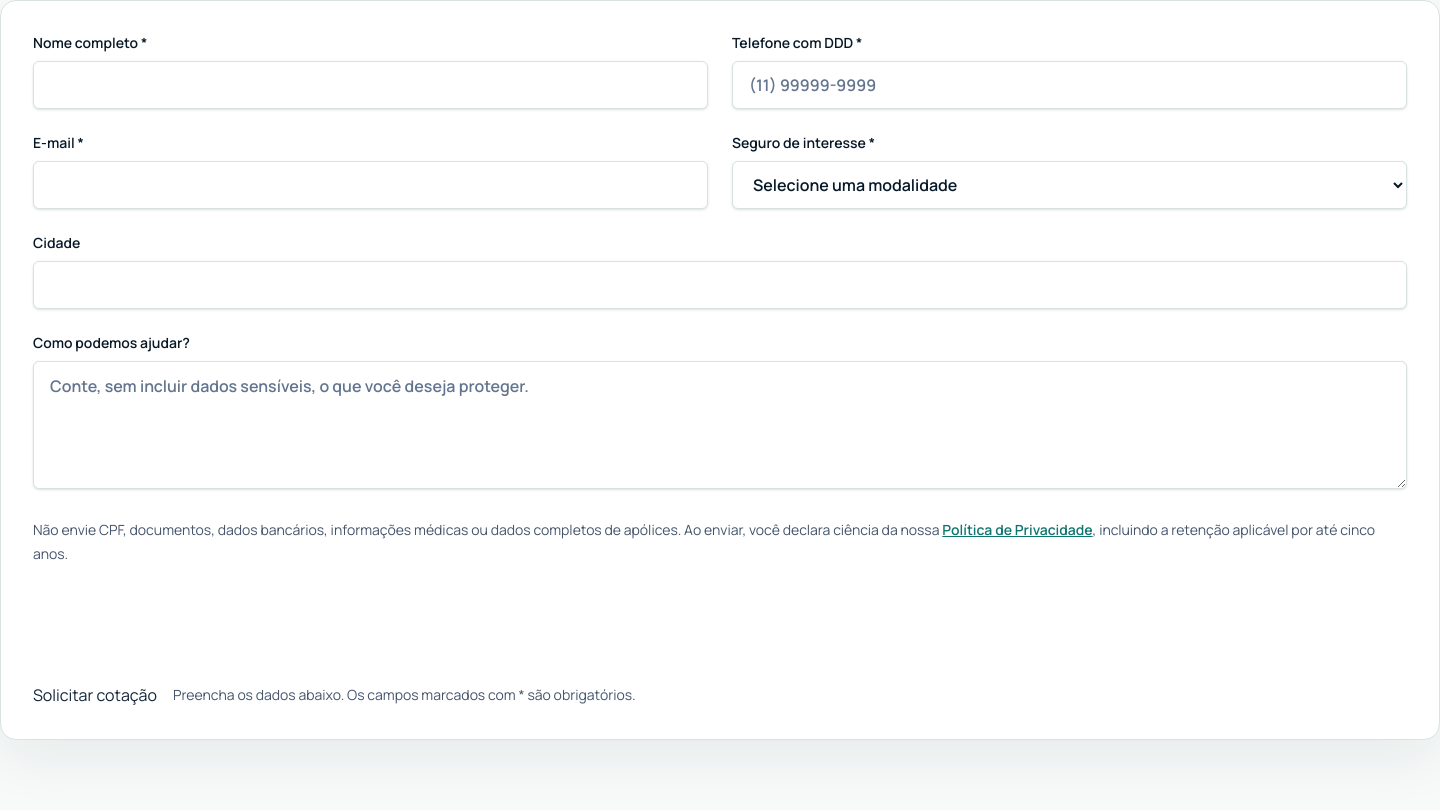
Test: QuoteForm › informa o limite e exige uma nova verificação
Type "Pessoa Exemplo" into the field labelled "Nome completo *" at point(370, 85), box [33, 61, 708, 109]
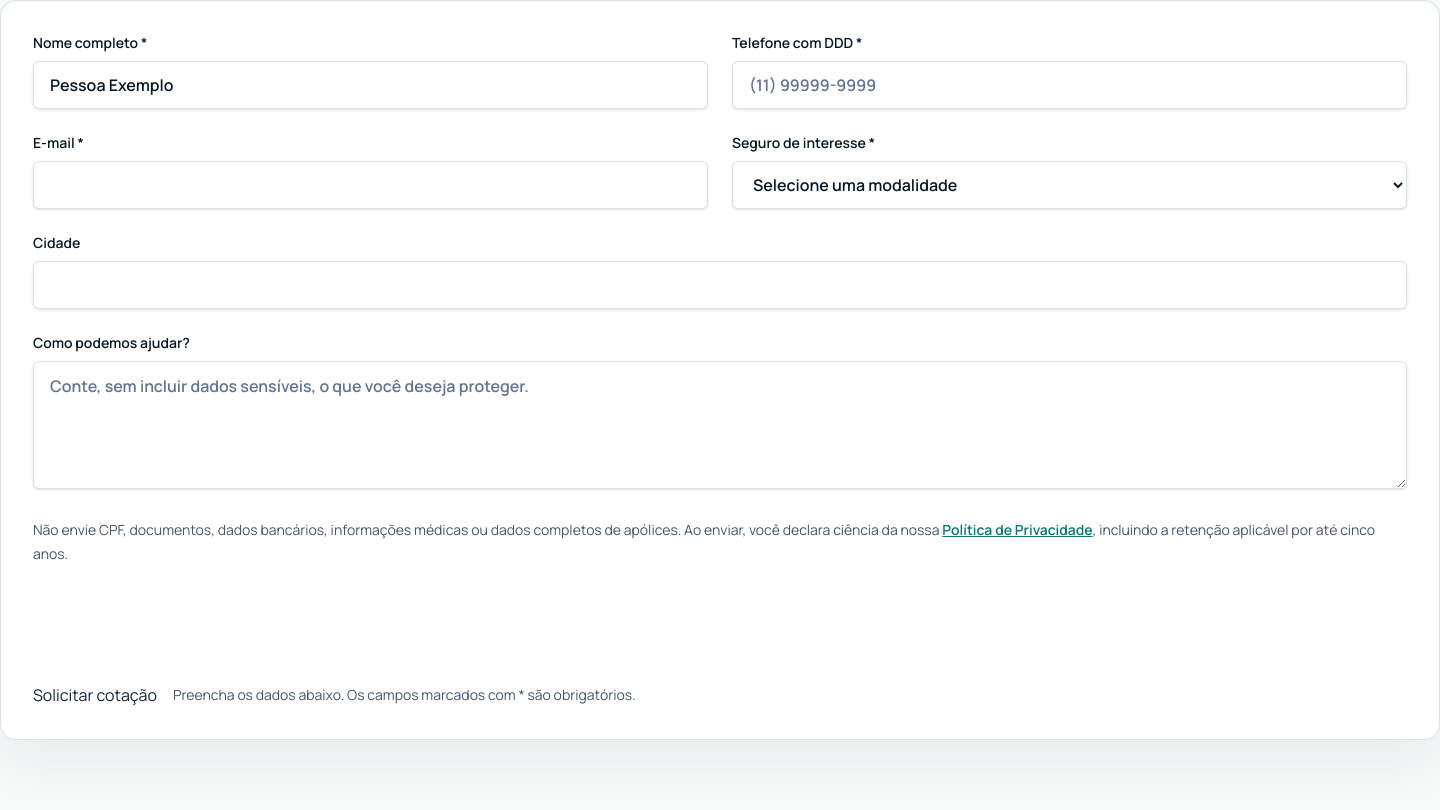
Type "(11) 99999-0000" into the field labelled "Telefone com DDD *" at point(1070, 85), box [732, 61, 1407, 109]
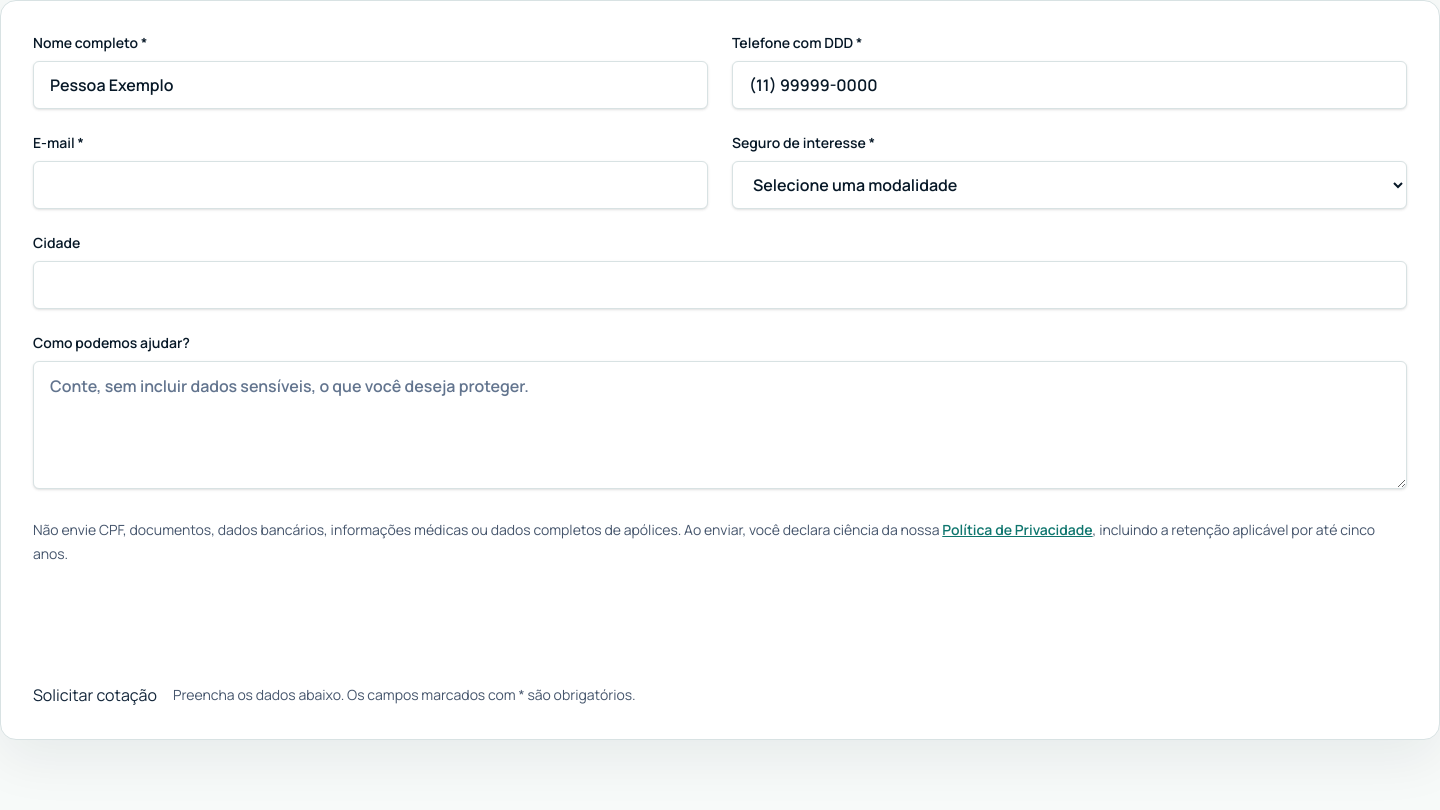
Type "pessoa@example.invalid" into the field labelled "E-mail *" at point(370, 185), box [33, 161, 708, 209]
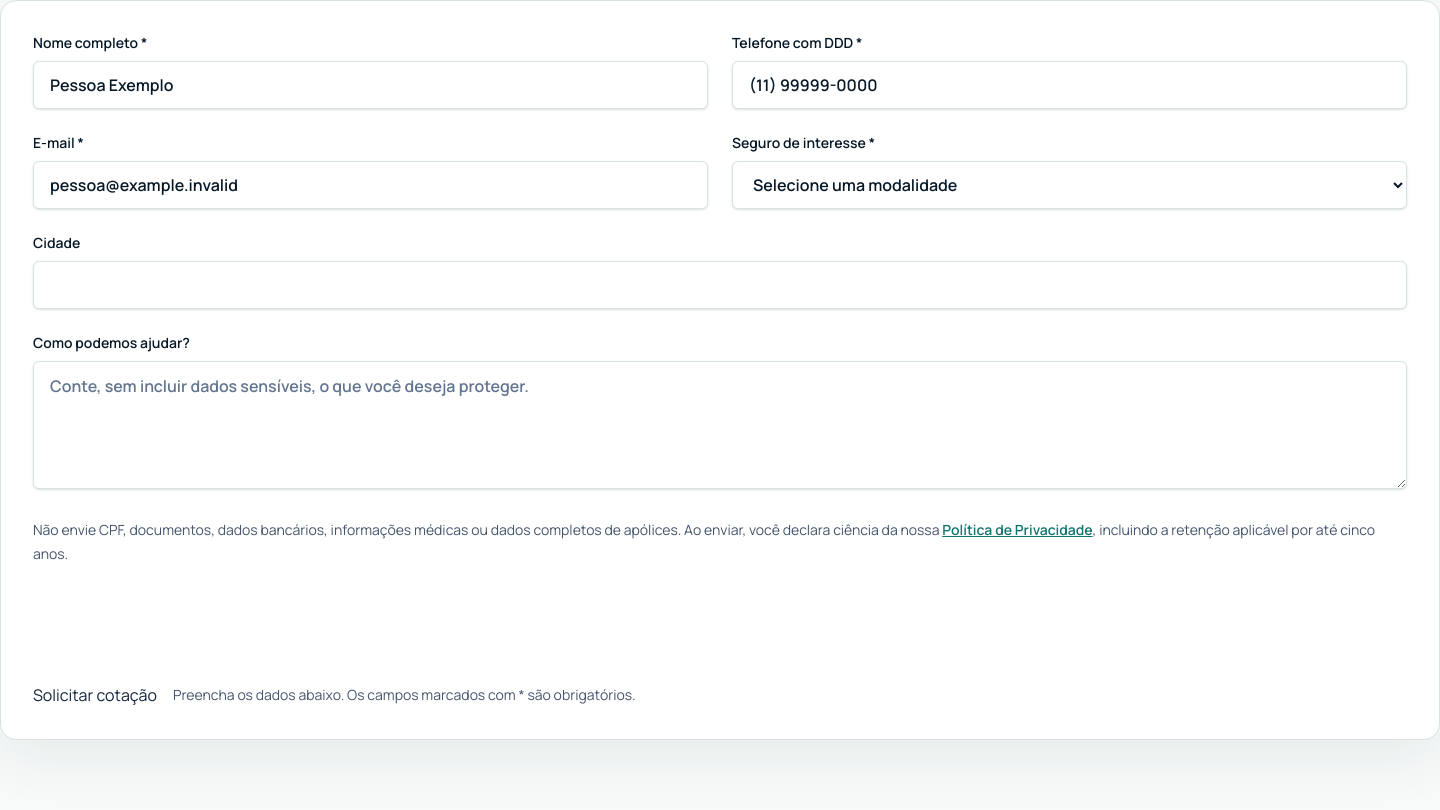
Select "Seguro Auto" in the dropdown labelled "Seguro de interesse *" at point(1070, 185), box [732, 161, 1407, 209]
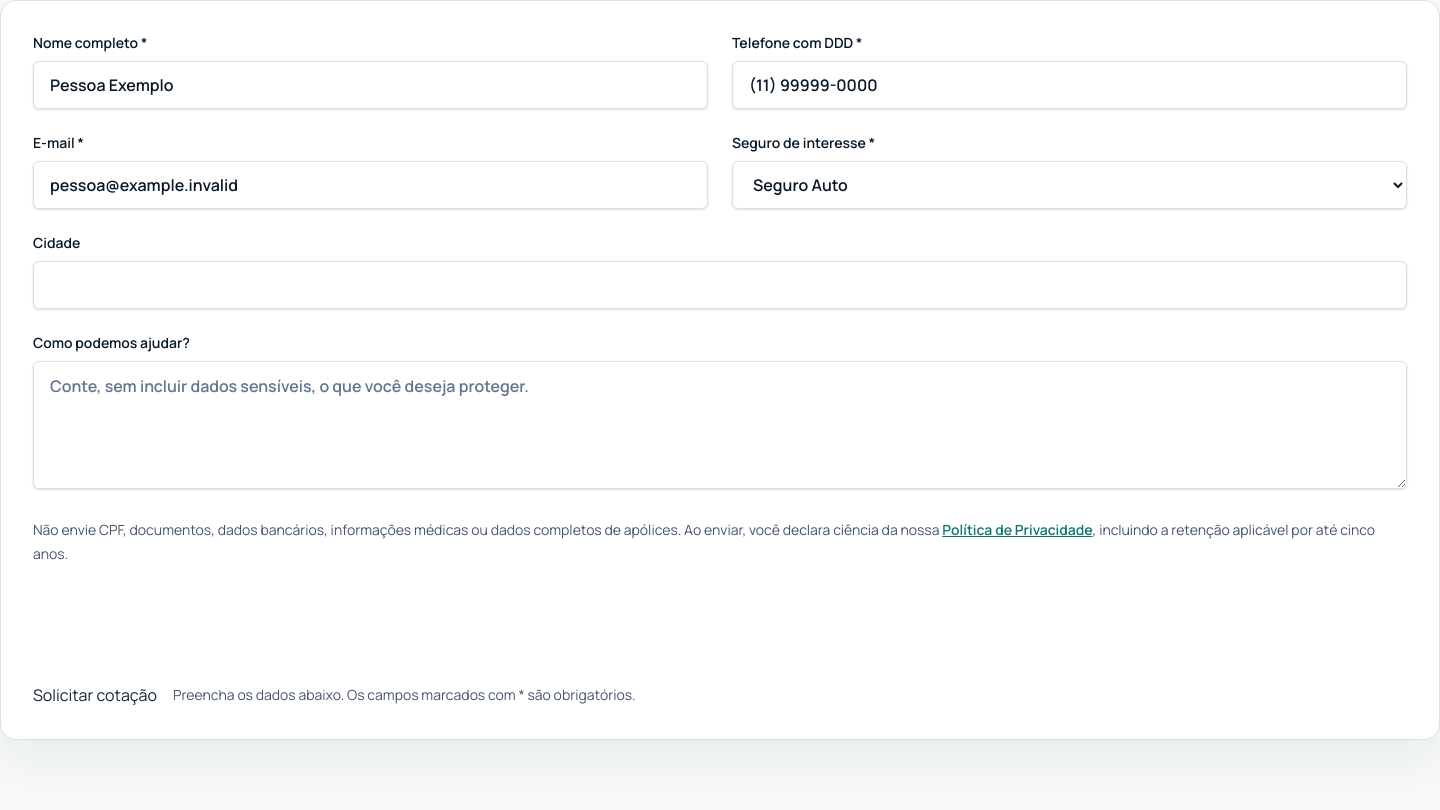
Click the button "Solicitar cotação" at point(95, 695), box [33, 683, 157, 707]
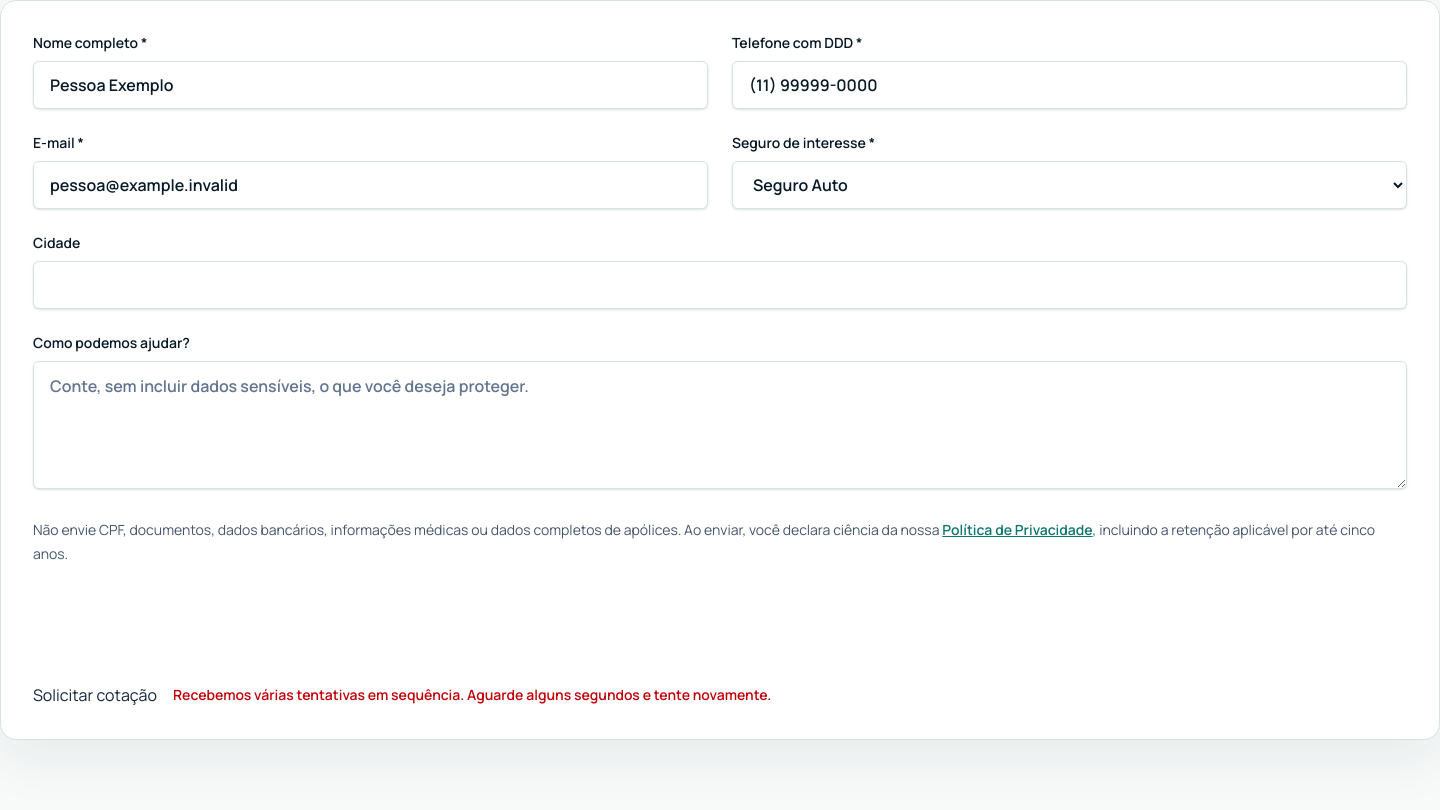
Now the text "várias tentativas em sequência" is shown, box [173, 685, 771, 704]
